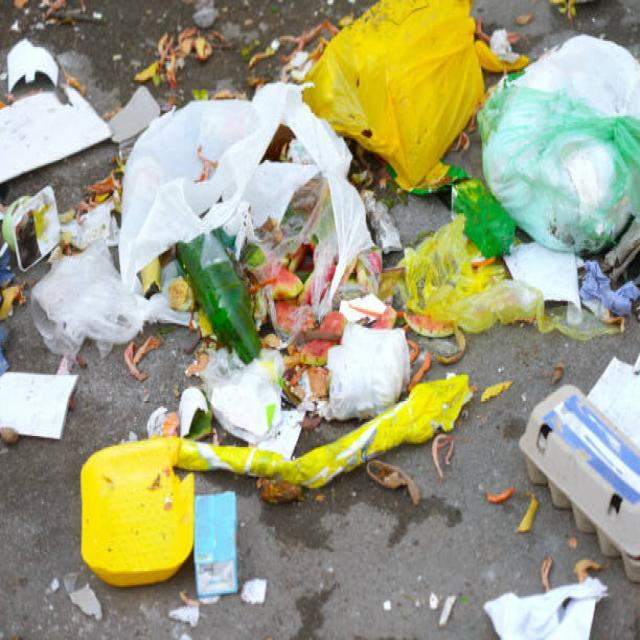cardboard: (530, 392, 632, 593)
glass: (182, 245, 275, 372)
plastic: (342, 12, 533, 186), (124, 120, 314, 236)
